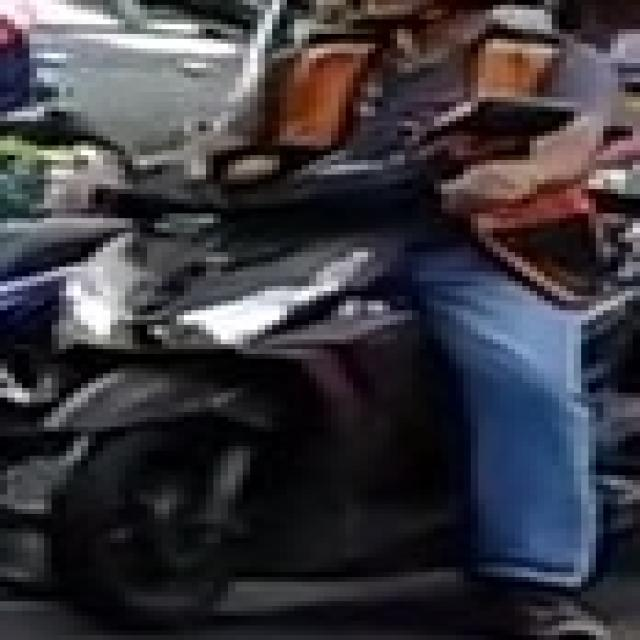door: (0, 0, 633, 635)
helmet: (0, 4, 29, 111)
tyre: (44, 422, 250, 625)
